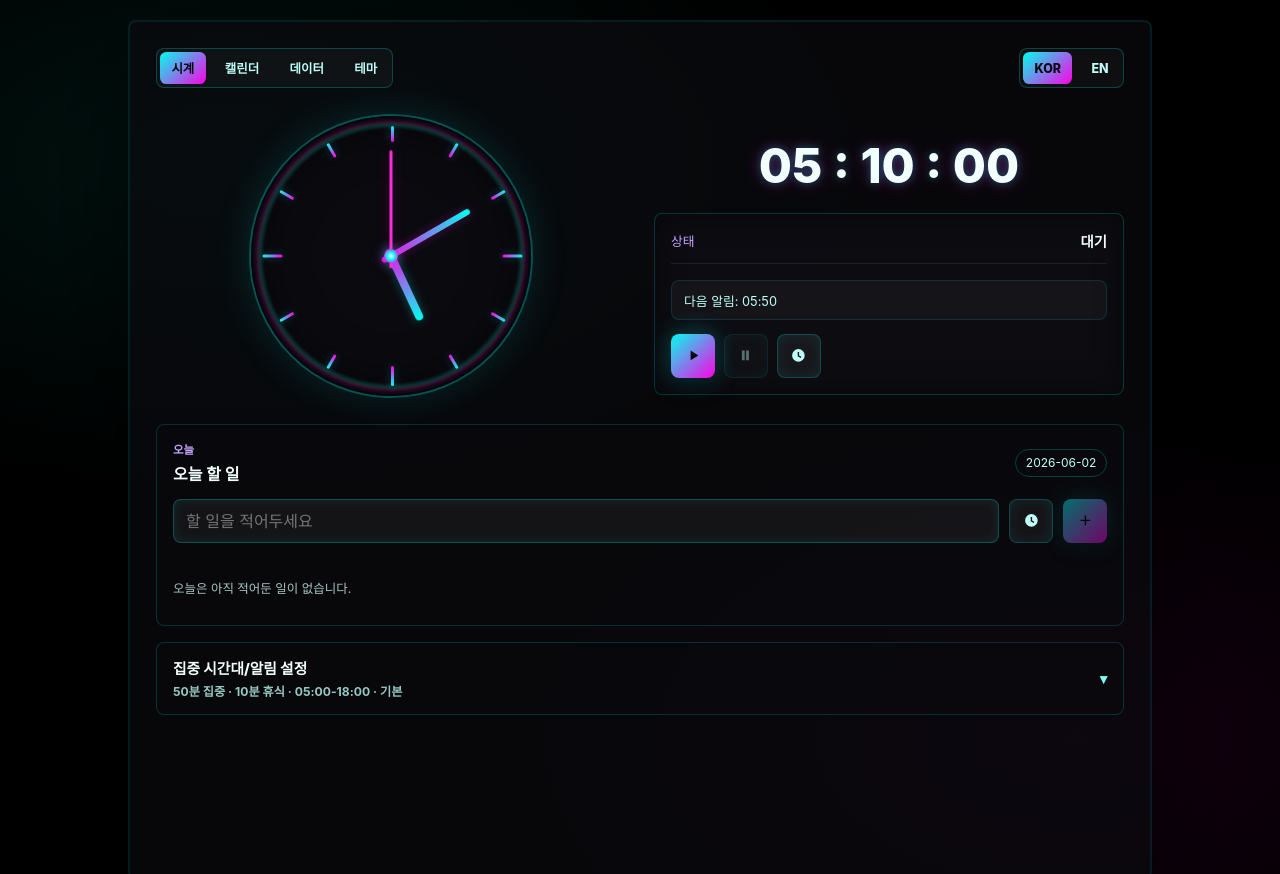
Test: RhythmApp › keeps minute inputs as drafts until a valid value is committed
Click the button "집중 시간대/알림 설정 50분 집중 · 10분 휴식 · 05:00-18:00 · 기본 ▾" at (240, 669), box 157,644 -> 1123,714
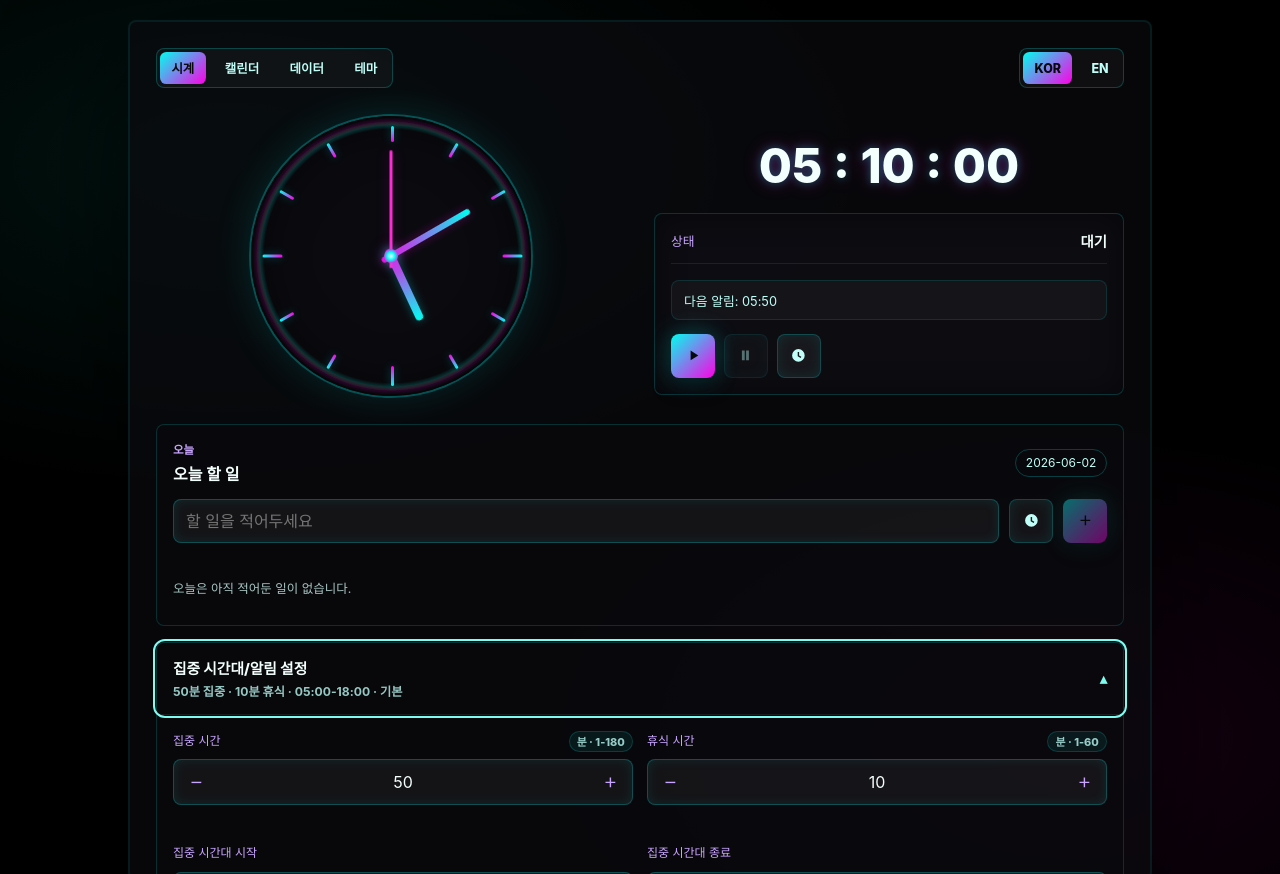
Clear the field labelled "집중 시간" at (403, 782), box 218,760 -> 588,804
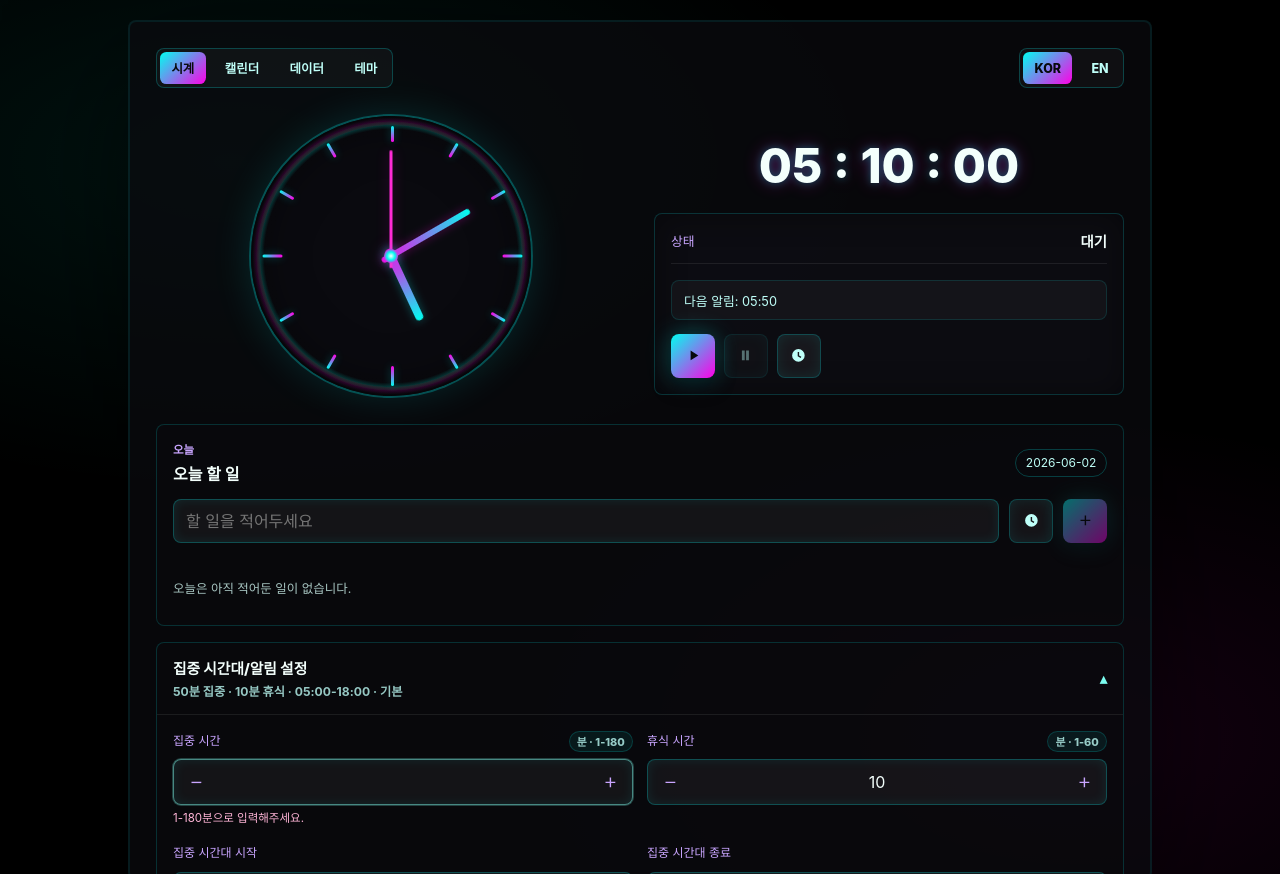
Expected: the text "분 · 1-180" is shown, 568,731 -> 633,752
Type "181" into the field labelled "집중 시간" at (403, 782), box 218,760 -> 588,804
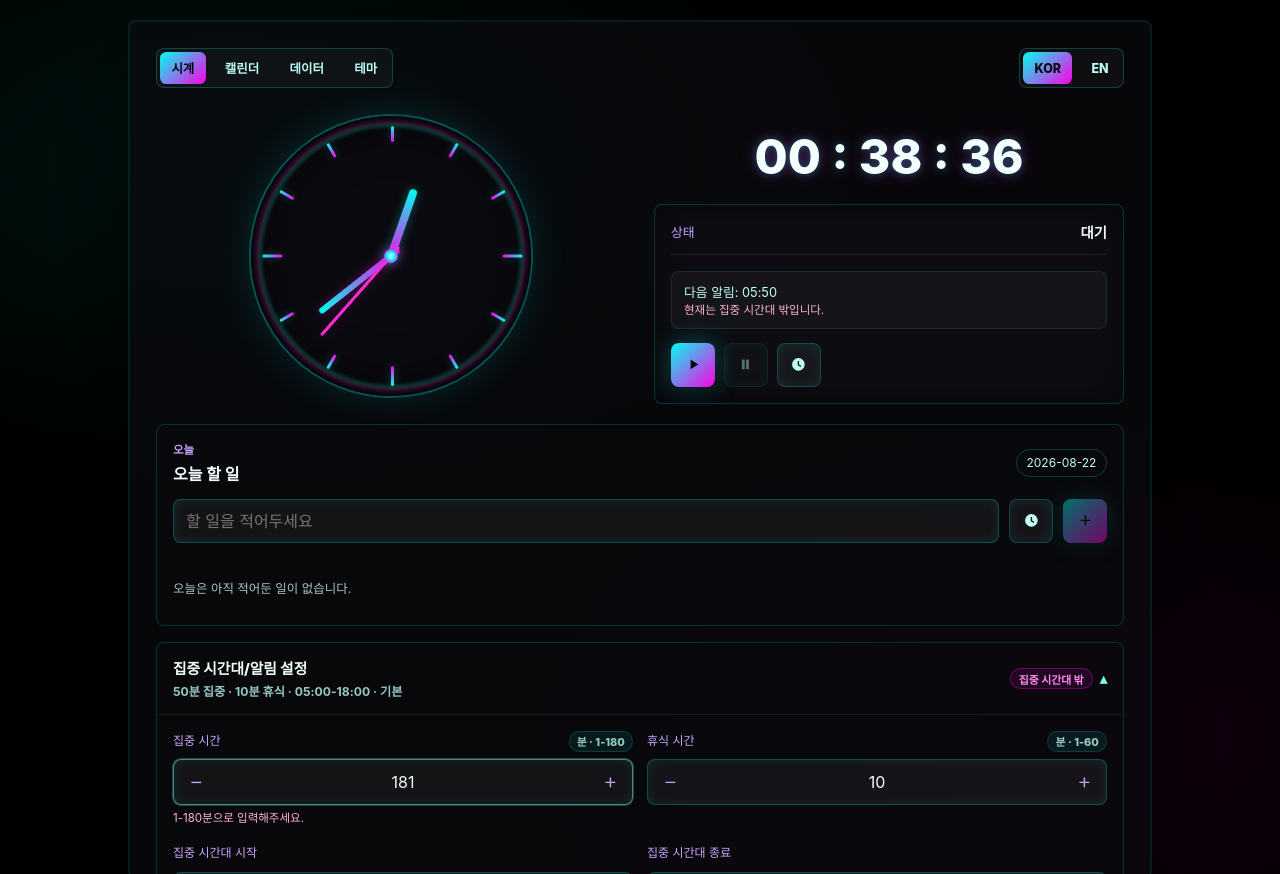
Leave the field labelled "집중 시간", box 218,760 -> 588,804
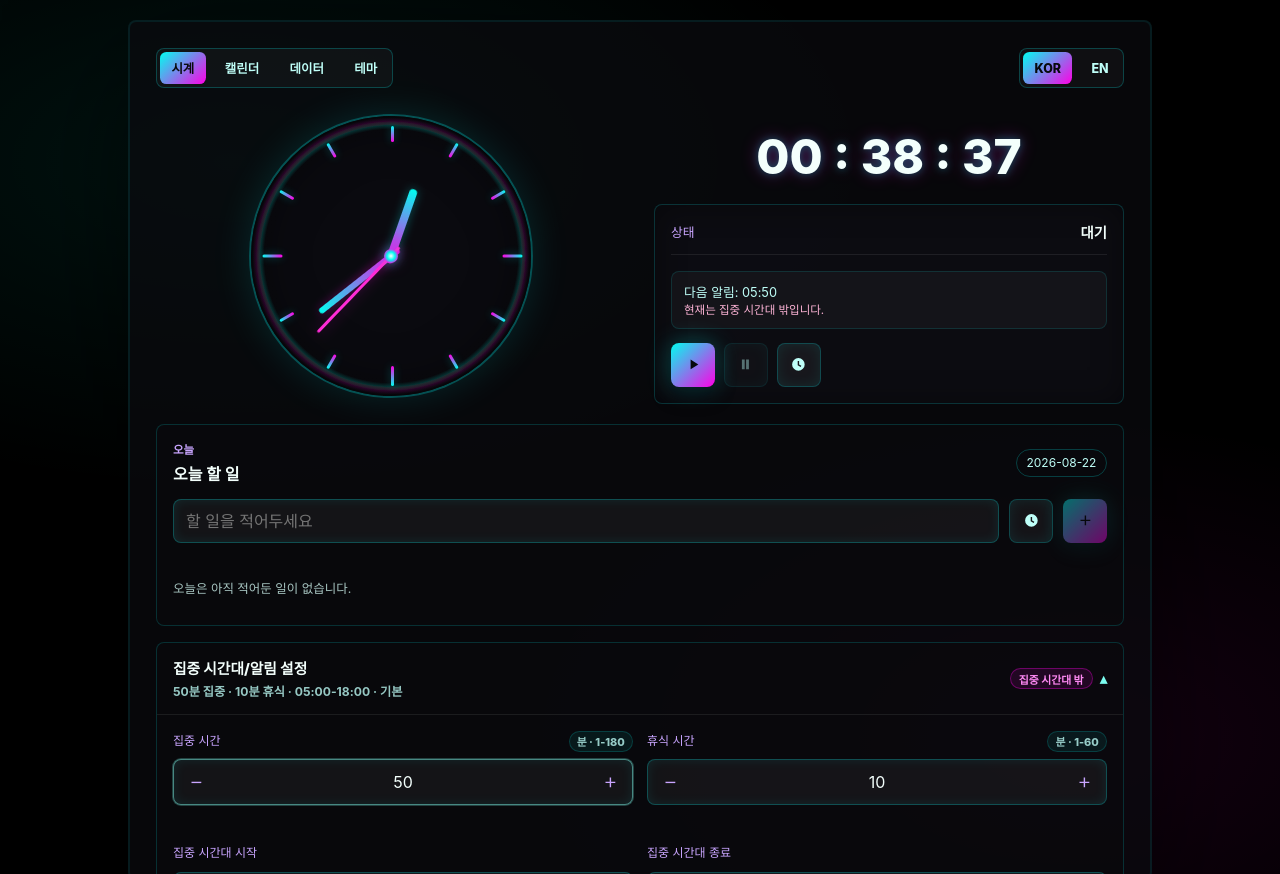
Expected: the field labelled "집중 시간" holds "50", 218,760 -> 588,804
